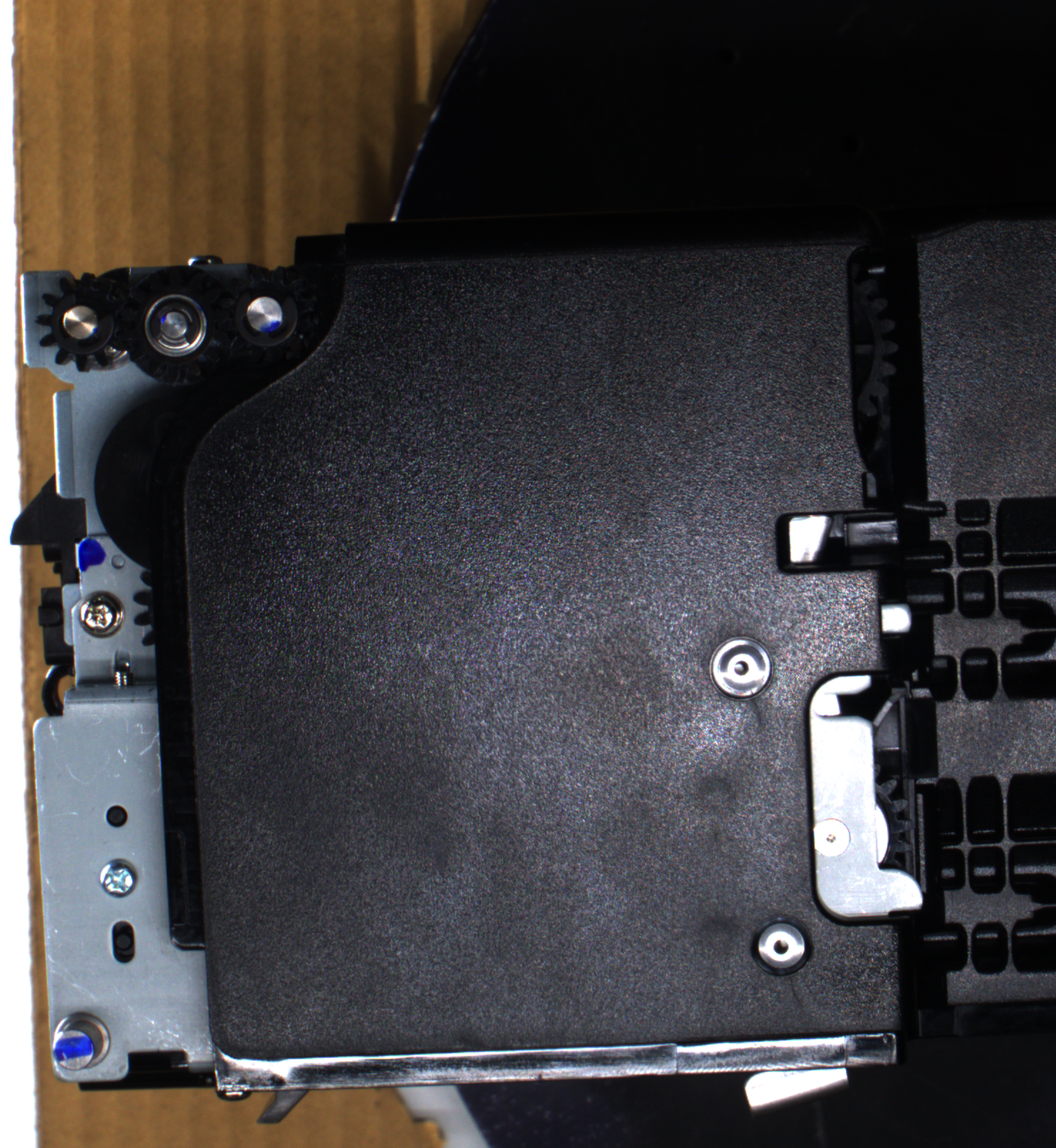centre_pin_presence: (738, 1047, 854, 1115)
centre_plate_presence: (802, 667, 932, 931)
centre_screw_presence: (705, 630, 778, 706), (744, 909, 816, 983)
gear1_presence: (35, 269, 135, 372)
gear2_presence: (120, 266, 232, 386)
gear3_presence: (213, 262, 316, 369)
side_screw_presence: (75, 589, 126, 639), (96, 857, 140, 899)
slanting_pin_presence: (46, 1009, 118, 1076)
